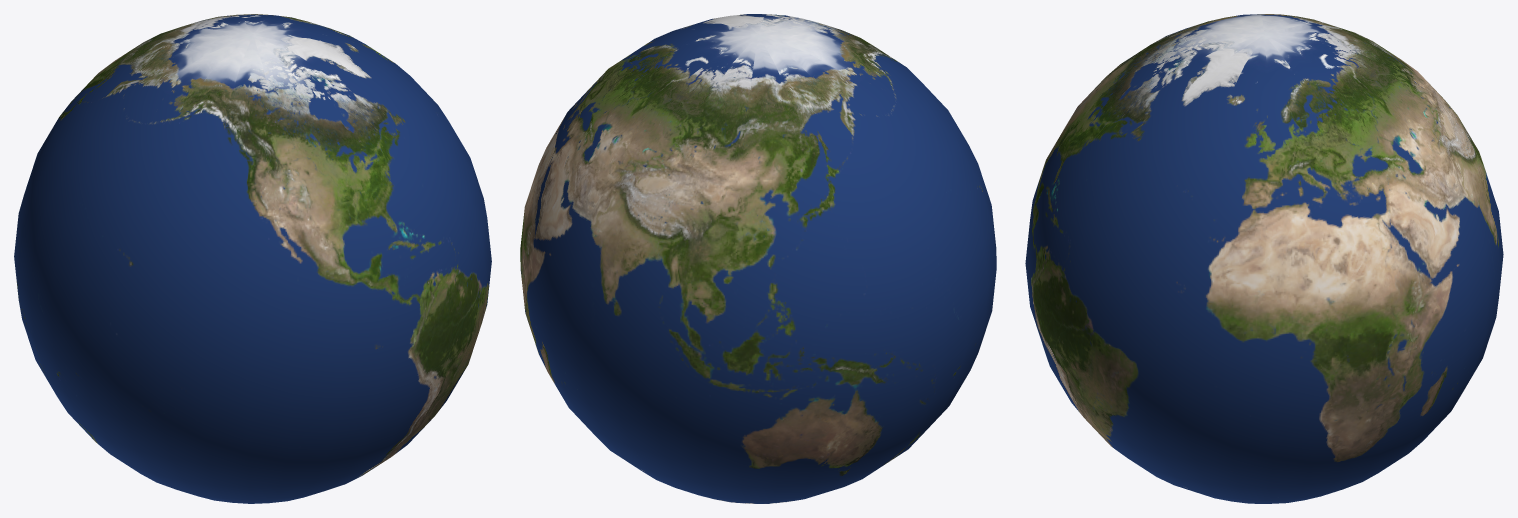
The model's file is earth-2.glb.
3 views of the same model, side by side, from view 1: azimuth 30°, elevation 25°; view 2: azimuth 150°, elevation 25°; view 3: azimuth 270°, elevation 25° (orthographic).
Visible parts, largest first — view 1: earth.001; view 2: earth.001; view 3: earth.001.
Boxes of the visible parts, left/top/right/bottom form: earth.001: left=14, top=14, right=491, bottom=503; earth.001: left=520, top=14, right=996, bottom=503; earth.001: left=1025, top=14, right=1503, bottom=503.
Size of the model in its own units: 1219 by 1262 by 1219.
1 material, 1 textured.
